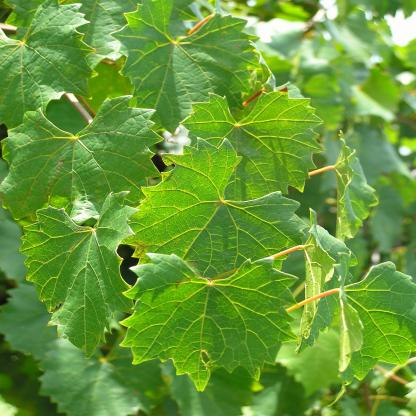grape leaf: (125, 140, 317, 293), (110, 253, 301, 397), (18, 186, 140, 367), (108, 0, 264, 134), (2, 91, 157, 223), (177, 88, 324, 199), (333, 257, 416, 402), (0, 3, 91, 130), (295, 205, 362, 363), (328, 128, 396, 254)
